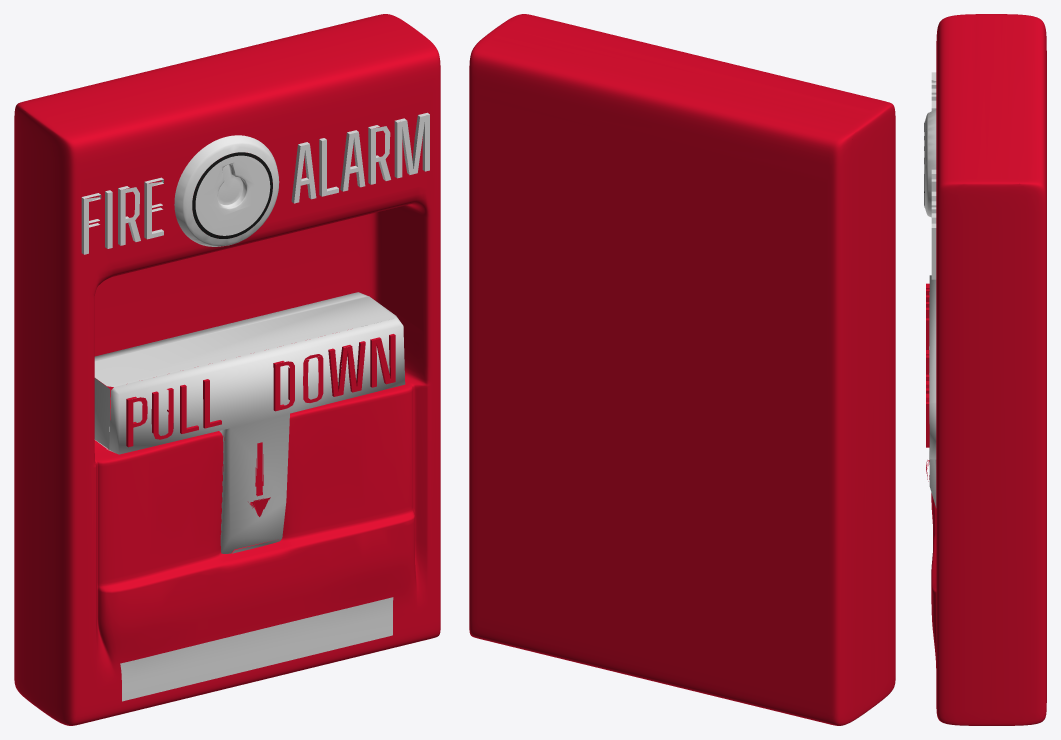
Rendered from FireAlarm.glb.
The picture shows the model from 3 angles, left to right: view 1: azimuth 30°, elevation 25°; view 2: azimuth 150°, elevation 25°; view 3: azimuth 270°, elevation 25°; orthographic projection. The views are drawn at different scales.
Visible parts, largest first — view 1: Object_7, Object_5, Object_2, Object_3, Object_6, Object_4; view 2: Object_7; view 3: Object_7, Object_5, Object_3, Object_6.
Boxes of the visible parts, x1,y1,x2,y2 form: Object_7: (14,14,440,725); Object_5: (81,112,429,553); Object_2: (120,597,393,701); Object_3: (174,135,279,246); Object_6: (126,334,395,516); Object_4: (192,152,272,238); Object_7: (469,14,895,725); Object_7: (931,14,1046,725); Object_5: (929,72,936,507); Object_3: (924,109,936,217); Object_6: (926,283,929,481).
Size of the model in its own units: 1.09 by 1.61 by 0.3304.
